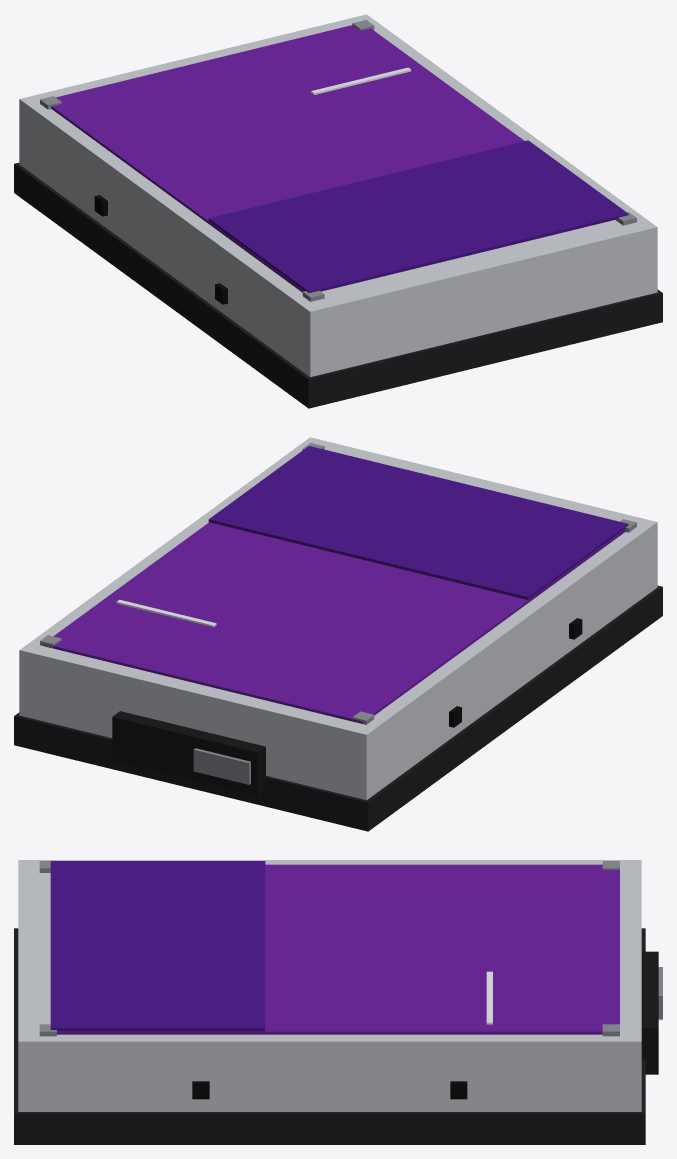
Rendered from 19-wd-purple-pro-hdd-10tb.glb.
3 renders of one model, top to bottom at view 1: azimuth 30°, elevation 25°; view 2: azimuth 150°, elevation 25°; view 3: azimuth 270°, elevation 25°, orthographic. The views are drawn at different scales.
Bounding box in the file's own units: 0.1035 × 0.0276 × 0.151.
